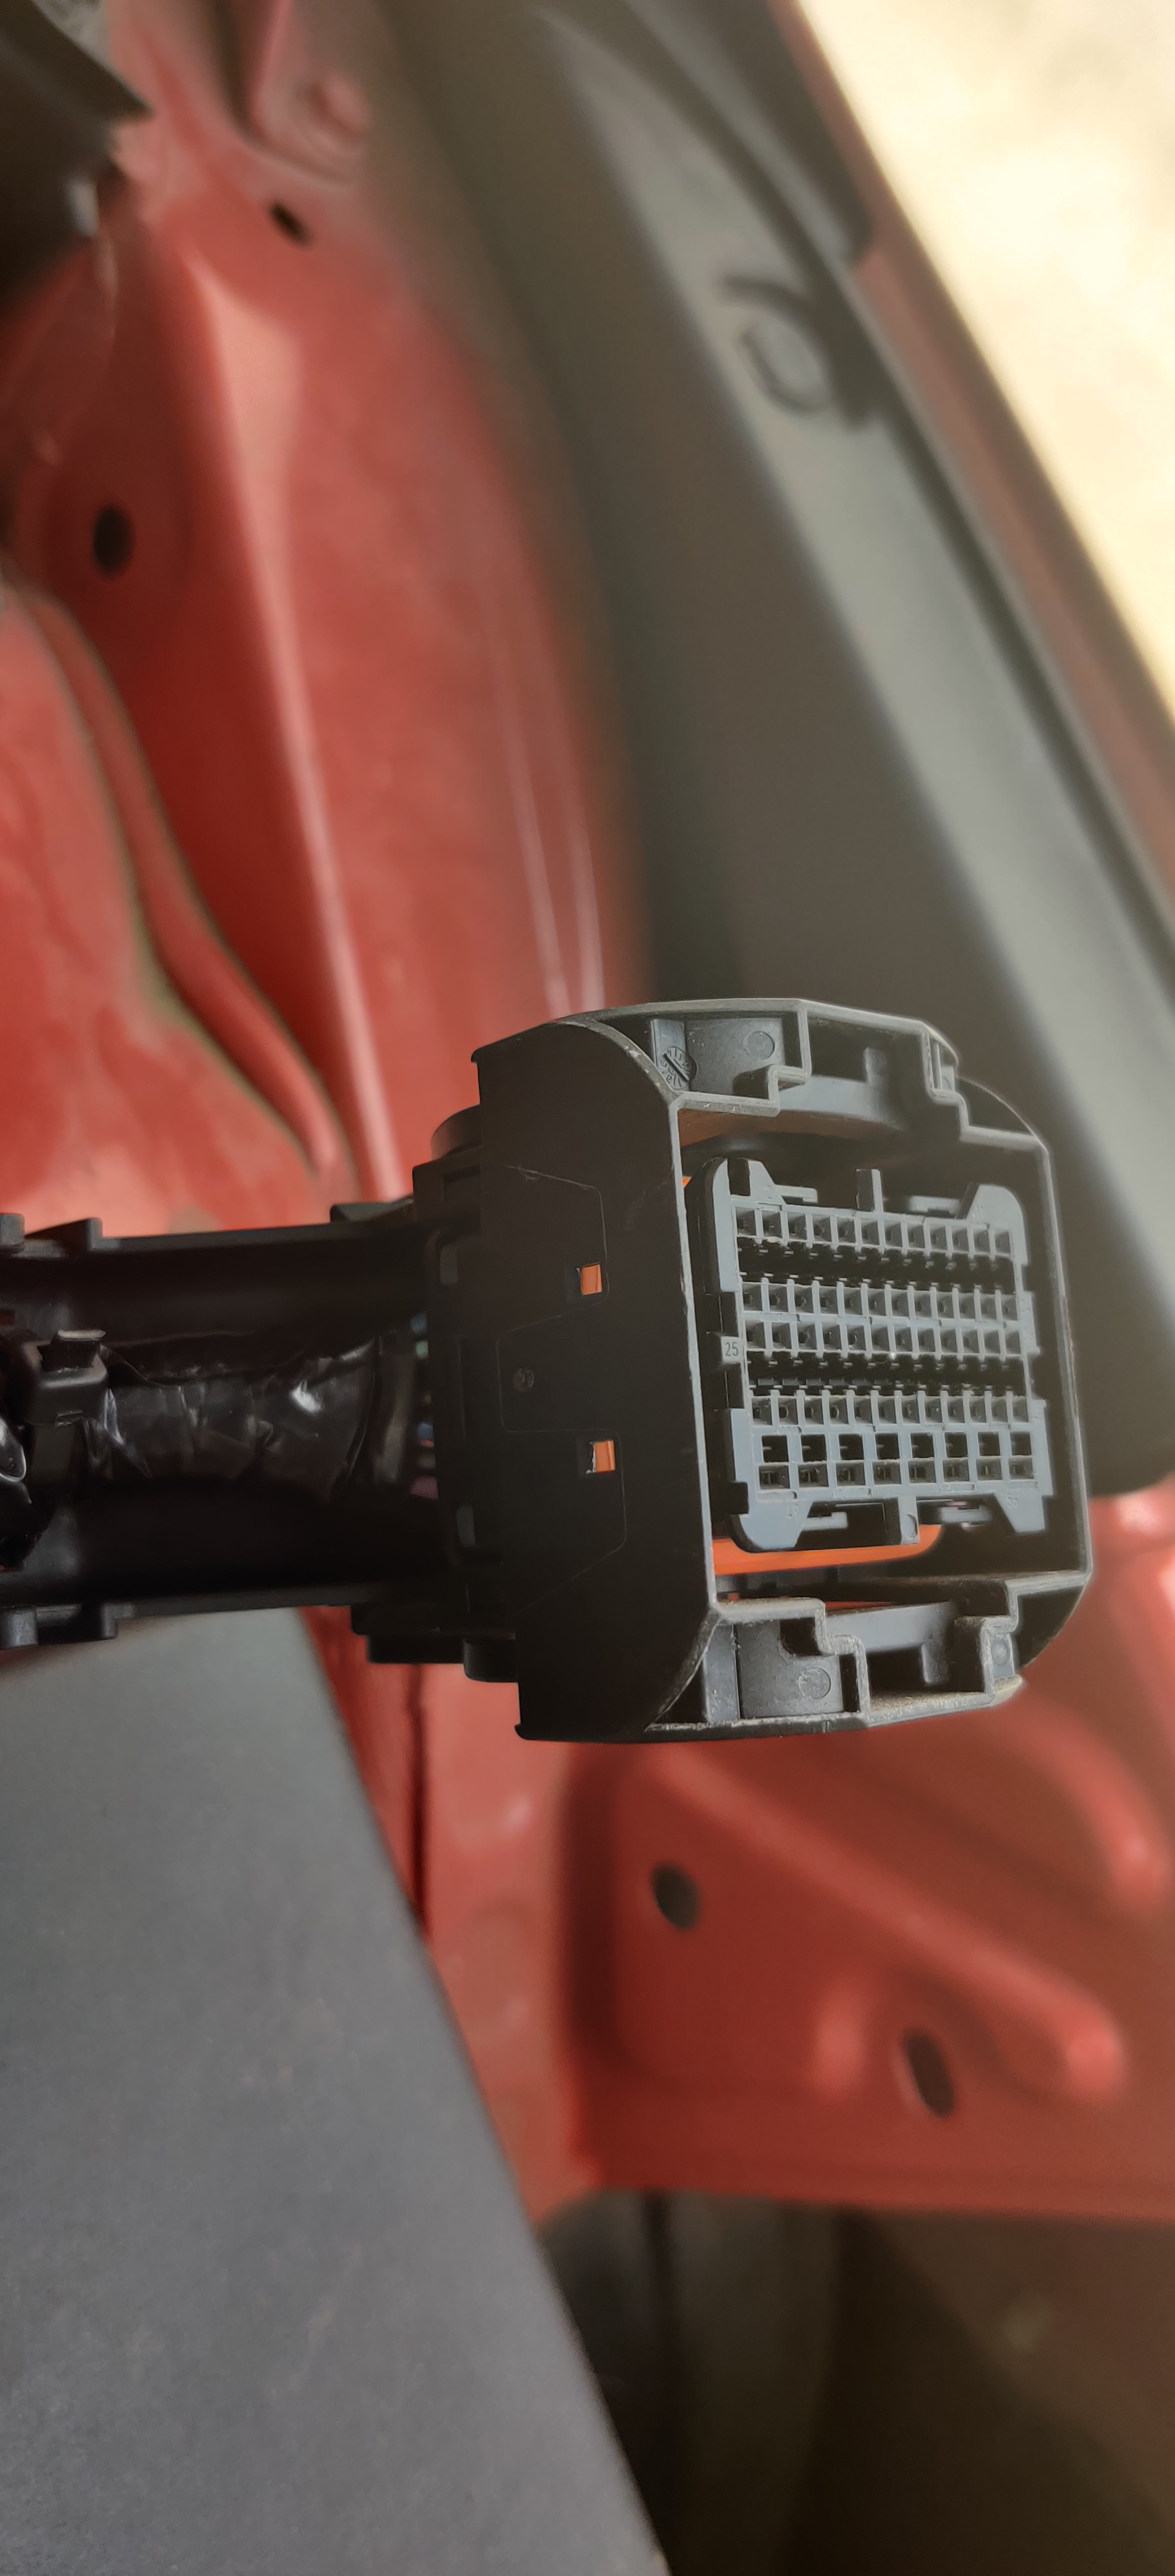connector: (278, 899, 1145, 1917)
